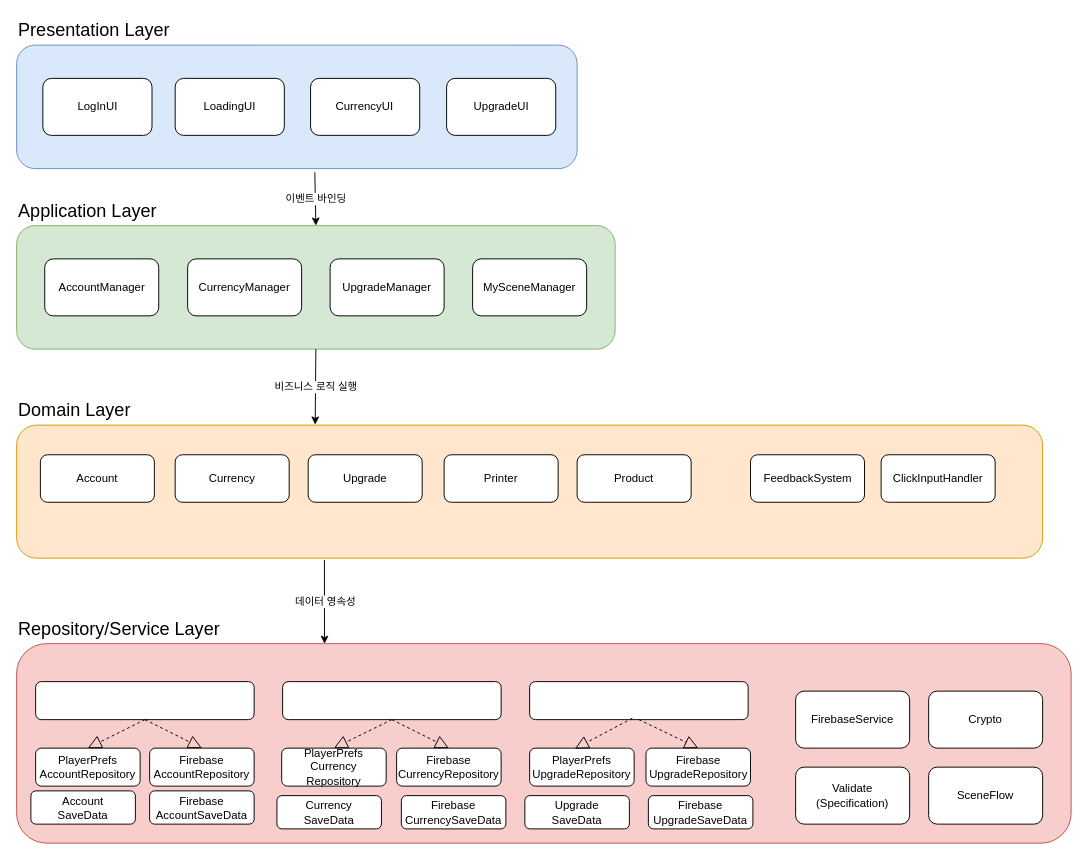
This 1088x860 diagram has some shape labels left out. Here are the shapes that lost their labels. From the top down, the box of each, then its label:
(35, 681, 254, 720): IAccountRepository
(282, 681, 501, 720): ICurrencyRepository
(529, 681, 748, 720): IUpgradeRepository
